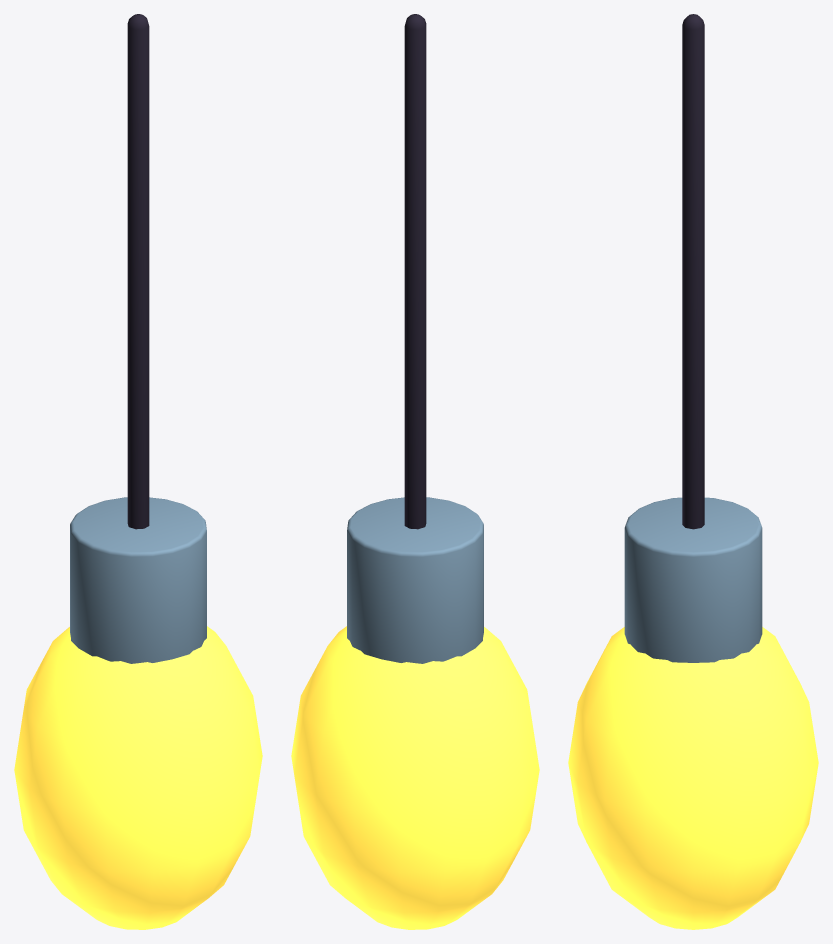
The model's file is bulb.glb.
The picture shows the model from 3 angles, left to right: view 1: azimuth 30°, elevation 25°; view 2: azimuth 150°, elevation 25°; view 3: azimuth 270°, elevation 25°; orthographic projection.
Visible parts, largest first — view 1: Bulb, Socket, Cord; view 2: Bulb, Socket, Cord; view 3: Bulb, Socket, Cord.
Part boxes in pixels (bbox=[...]): Bulb: bbox=[14, 626, 262, 929]; Socket: bbox=[70, 497, 206, 663]; Cord: bbox=[127, 14, 149, 529]; Bulb: bbox=[291, 626, 539, 929]; Socket: bbox=[347, 497, 483, 663]; Cord: bbox=[404, 14, 426, 529]; Bulb: bbox=[568, 627, 818, 929]; Socket: bbox=[624, 497, 762, 662]; Cord: bbox=[682, 14, 704, 529].
Bounding box in the file's own units: 0.2 × 0.799 × 0.2.
